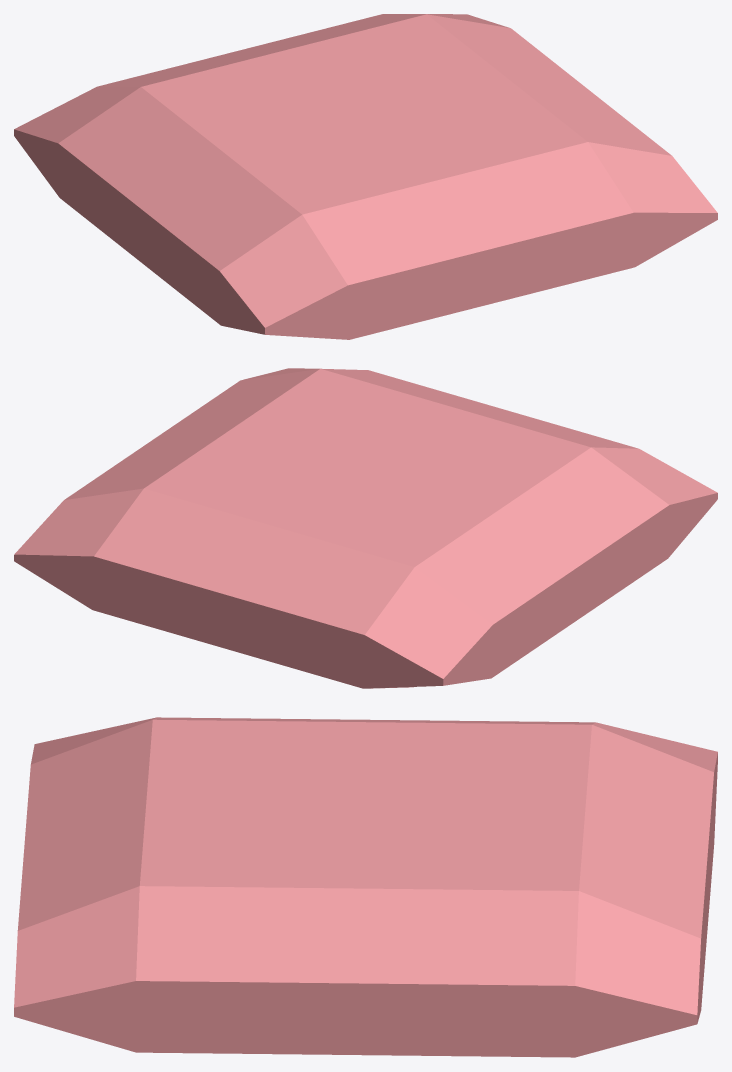
File: couch_cushion_red.fbx
3 renders of one model, top to bottom at view 1: azimuth 30°, elevation 25°; view 2: azimuth 150°, elevation 25°; view 3: azimuth 270°, elevation 25°, orthographic. The views are drawn at different scales.
Visible parts, largest first — view 1: couch_cushion_red; view 2: couch_cushion_red; view 3: couch_cushion_red.
Boxes of the visible parts, x1=… form: couch_cushion_red: x1=14, y1=14, x2=717, y2=339; couch_cushion_red: x1=14, y1=368, x2=717, y2=688; couch_cushion_red: x1=14, y1=717, x2=717, y2=1057.
Size of the model in its own units: 53.17 by 51.59 by 14.13.
